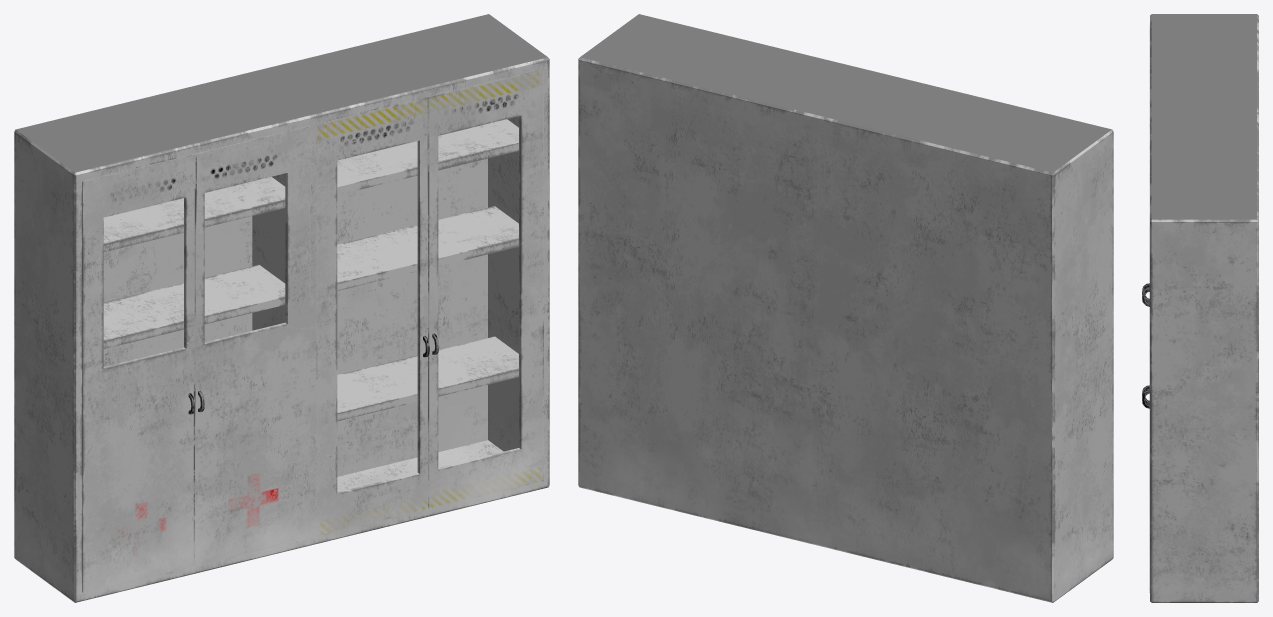
The model's file is Gabinete sala medica.fbx.
3 renders of one model, left to right at view 1: azimuth 30°, elevation 25°; view 2: azimuth 150°, elevation 25°; view 3: azimuth 270°, elevation 25°, orthographic. The views are drawn at different scales.
Parts seen in each view (by area): view 1: puerta_der, base_izq, base_Der, puerta_izq, repisa3_izq, repisa2_izq, repisa2_der, repisa1_izq, repisa1_der; view 2: base_Der, base_izq; view 3: base_izq, base_Der, puerta_izq.
Part boxes in pixels (<box>): puerta_der: <box>82,126,310,593</box>; base_izq: <box>252,14,549,545</box>; base_Der: <box>14,71,314,602</box>; puerta_izq: <box>316,69,543,536</box>; repisa3_izq: <box>337,336,518,421</box>; repisa2_izq: <box>337,206,518,290</box>; repisa2_der: <box>103,265,285,348</box>; repisa1_izq: <box>337,119,518,194</box>; repisa1_der: <box>103,176,285,251</box>; base_Der: <box>813,71,1113,602</box>; base_izq: <box>578,14,876,545</box>; base_izq: <box>1150,116,1258,602</box>; base_Der: <box>1150,14,1258,118</box>; puerta_izq: <box>1149,127,1149,592</box>.
Size of the model in its own units: 6.94 by 5.99 by 1.66.
Materials: 1 (1 with a texture image).
